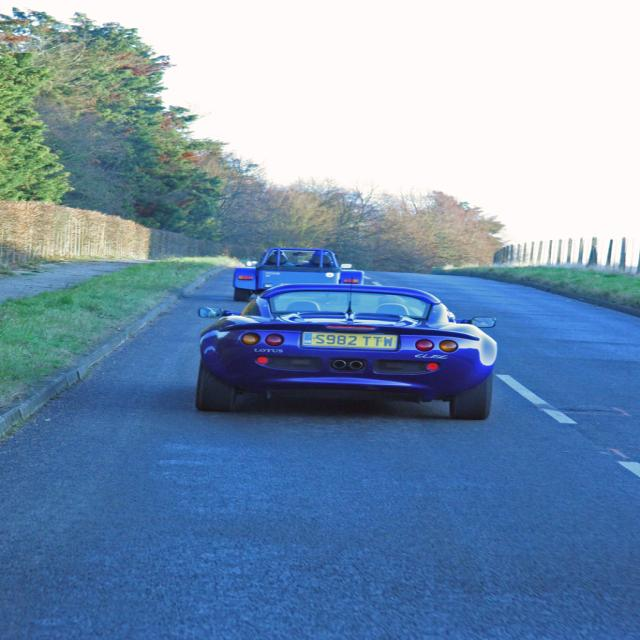car: (185, 280, 499, 423)
